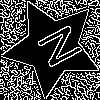N: (27, 22, 84, 75)
